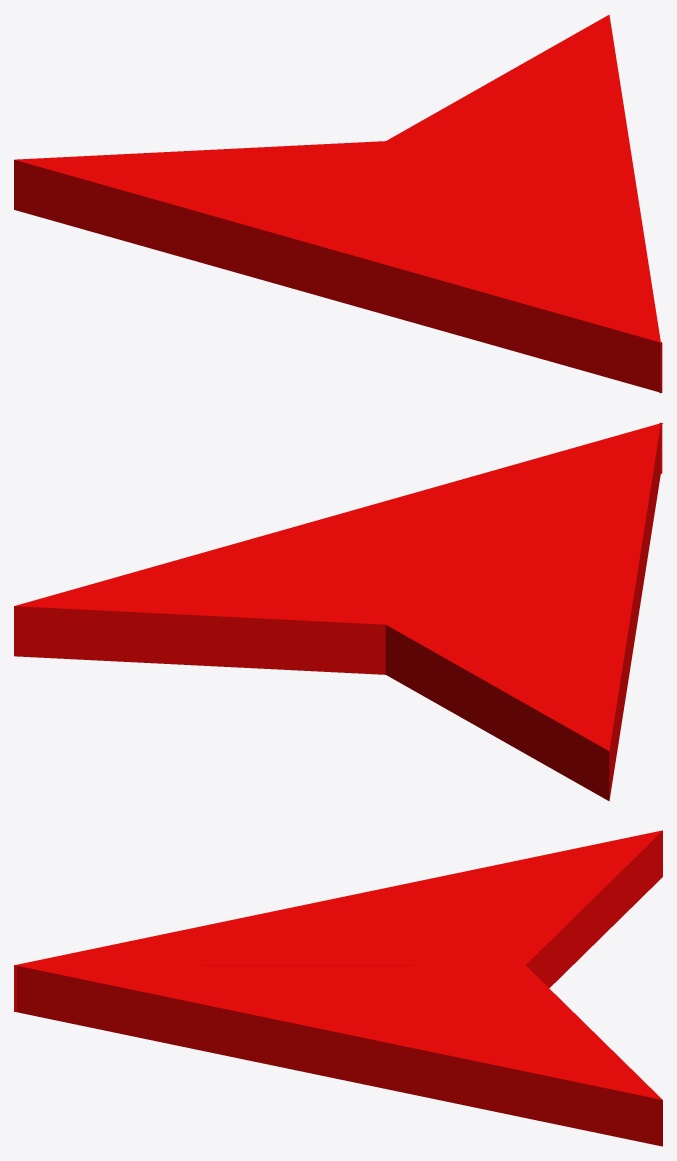
File: red-arrow.glb
The picture shows the model from 3 angles, top to bottom: view 1: azimuth 30°, elevation 25°; view 2: azimuth 150°, elevation 25°; view 3: azimuth 270°, elevation 25°; orthographic projection. The views are drawn at different scales.
Visible parts, largest first — view 1: Plane.001, Plane.002; view 2: Plane.002, Plane.001; view 3: Plane.002, Plane.001.
Boxes of the visible parts, <box> form: Plane.001: <box>14,141,662,392</box>; Plane.002: <box>386,14,660,393</box>; Plane.002: <box>14,423,662,674</box>; Plane.001: <box>384,422,660,801</box>; Plane.002: <box>14,965,662,1146</box>; Plane.001: <box>14,830,662,1011</box>.
Bounding box in the file's own units: 4.89 × 0.3952 × 4.98.
